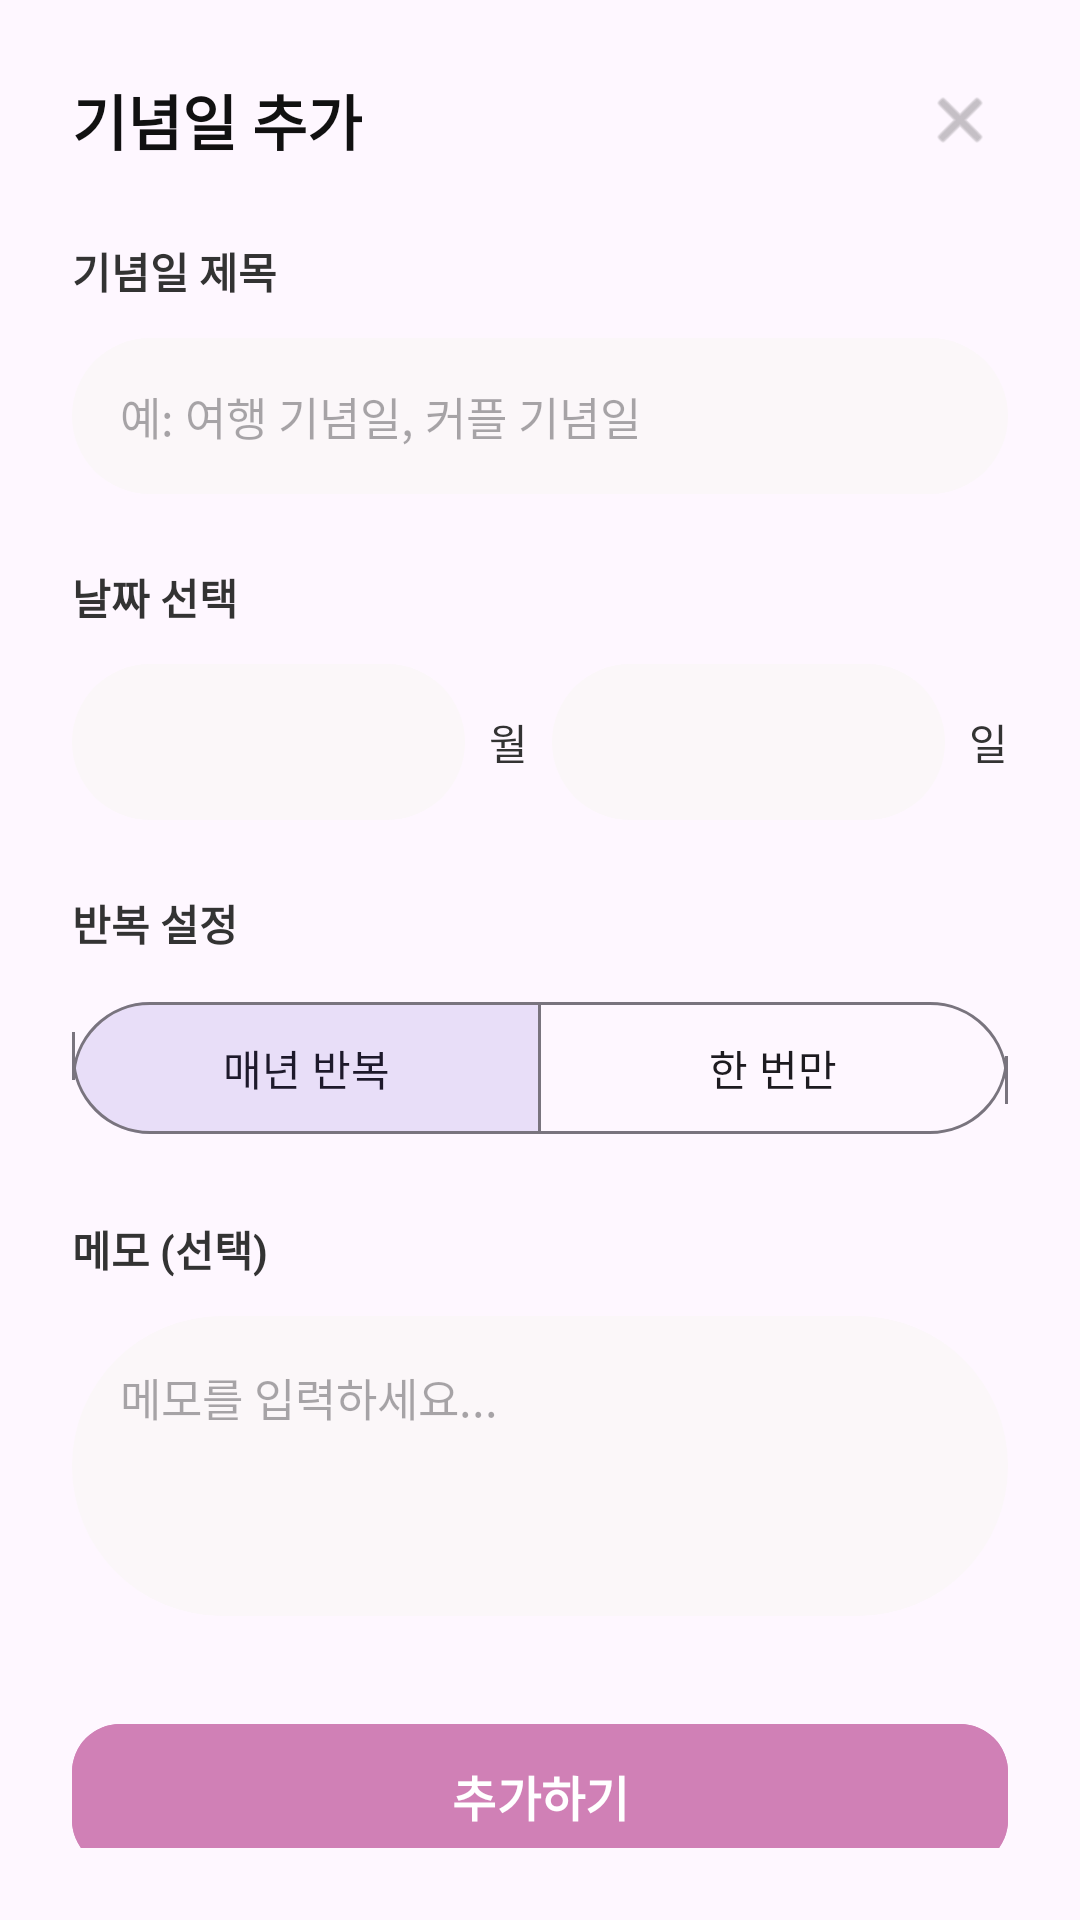

Icons on this 1080 x 1920 Android screen, each with the point to tap as (x=x, y=y):
close clear cancel: (x=960, y=120)
